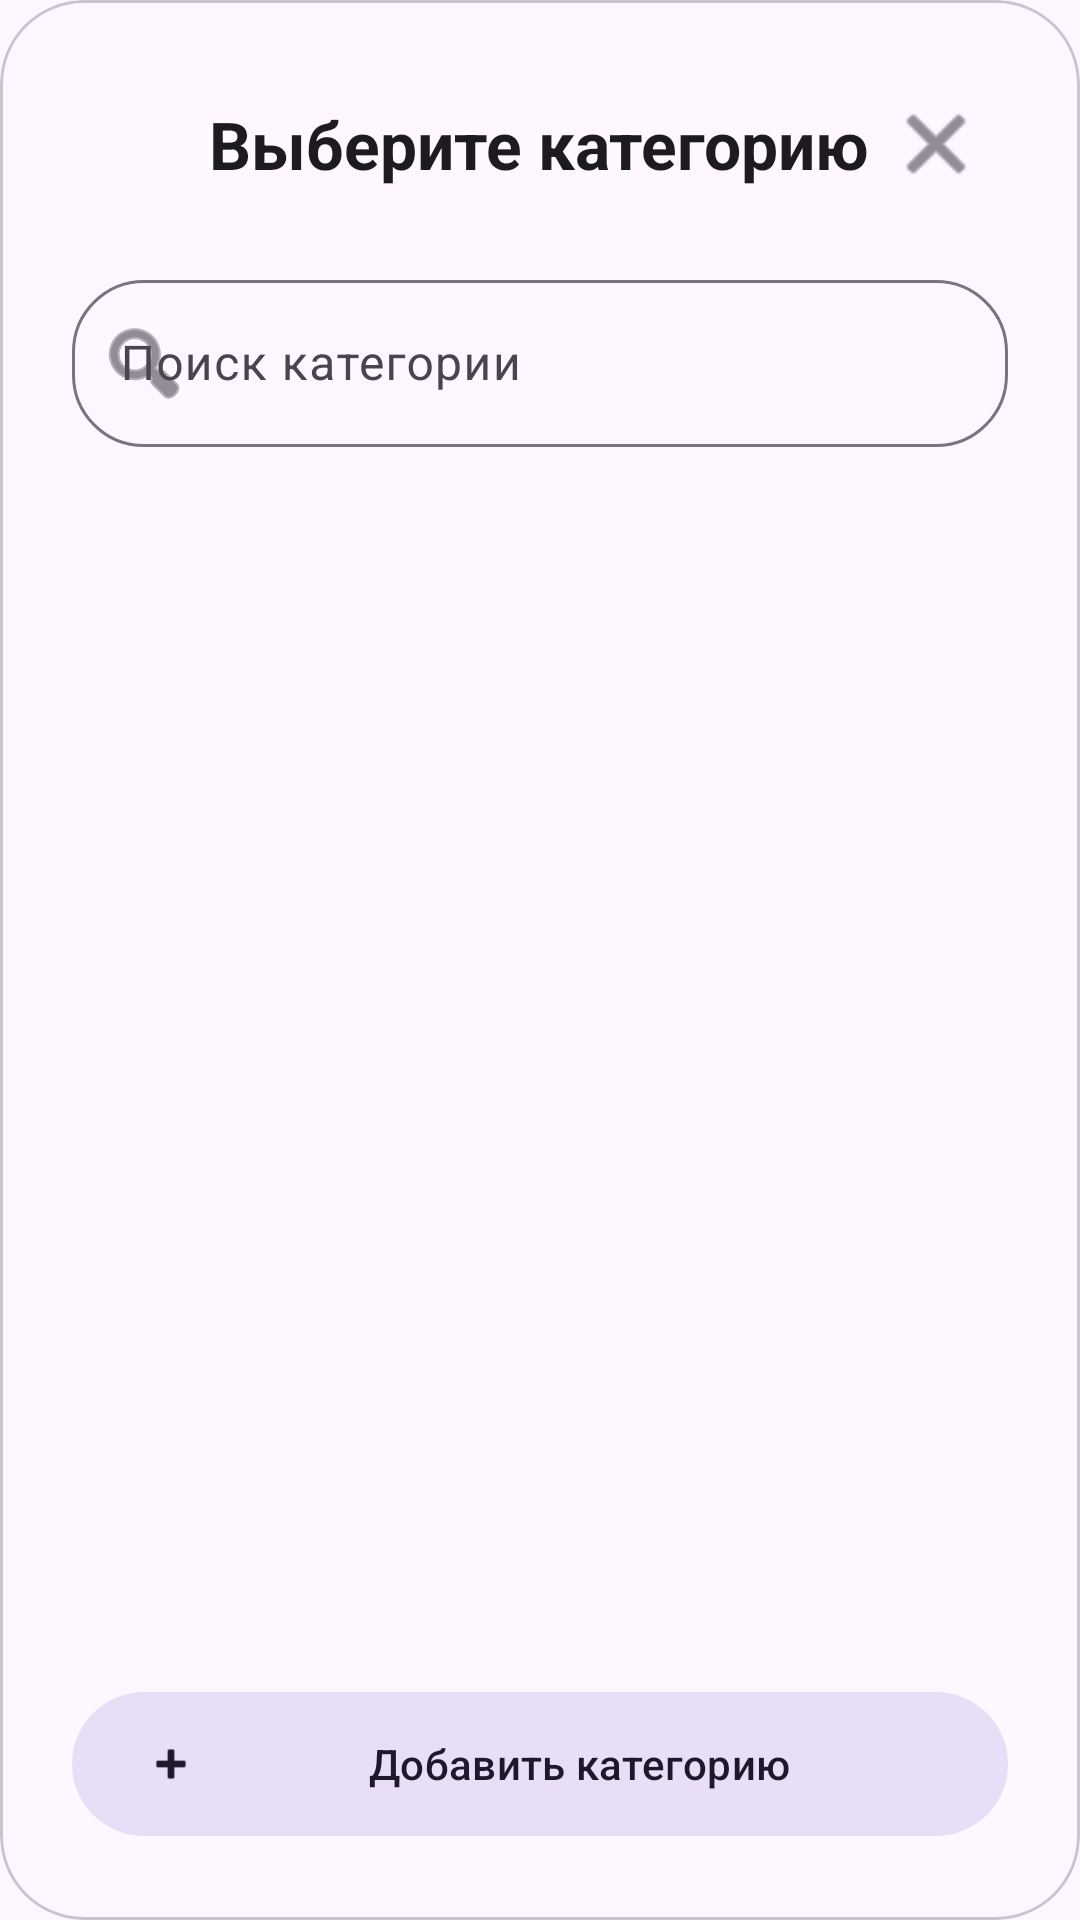

Named icons in this screenshot (1080px x 1920px) and their centers, (x,y):
Отмена: (936,144)
